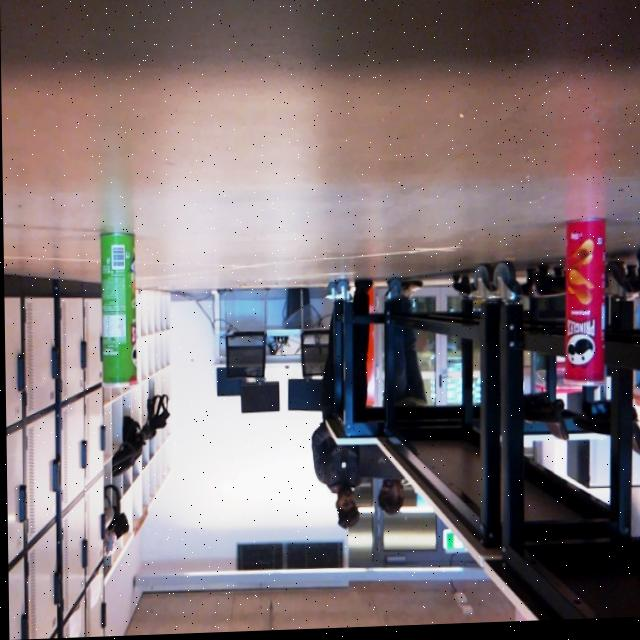greenpringles: (90, 215, 150, 405)
redpringles: (559, 217, 613, 409)
